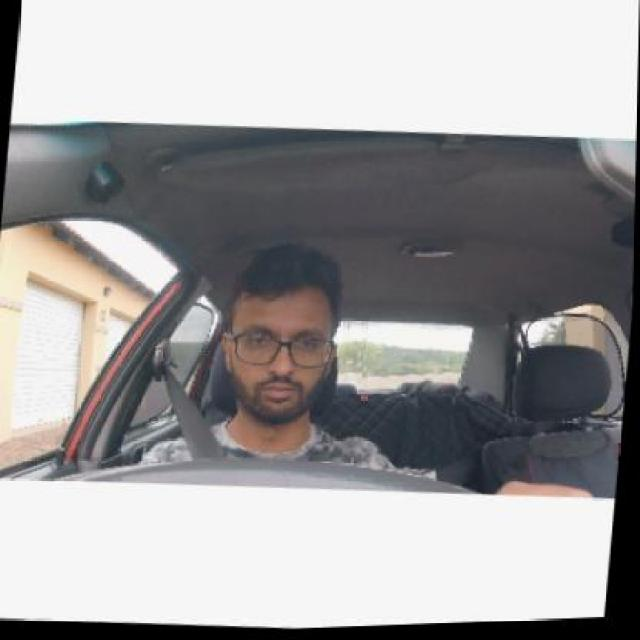person: (222, 232, 347, 424)
